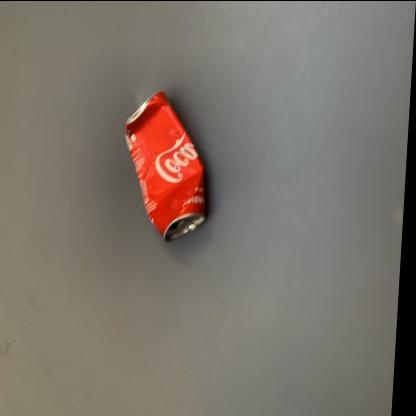trash: (125, 92, 205, 240)
